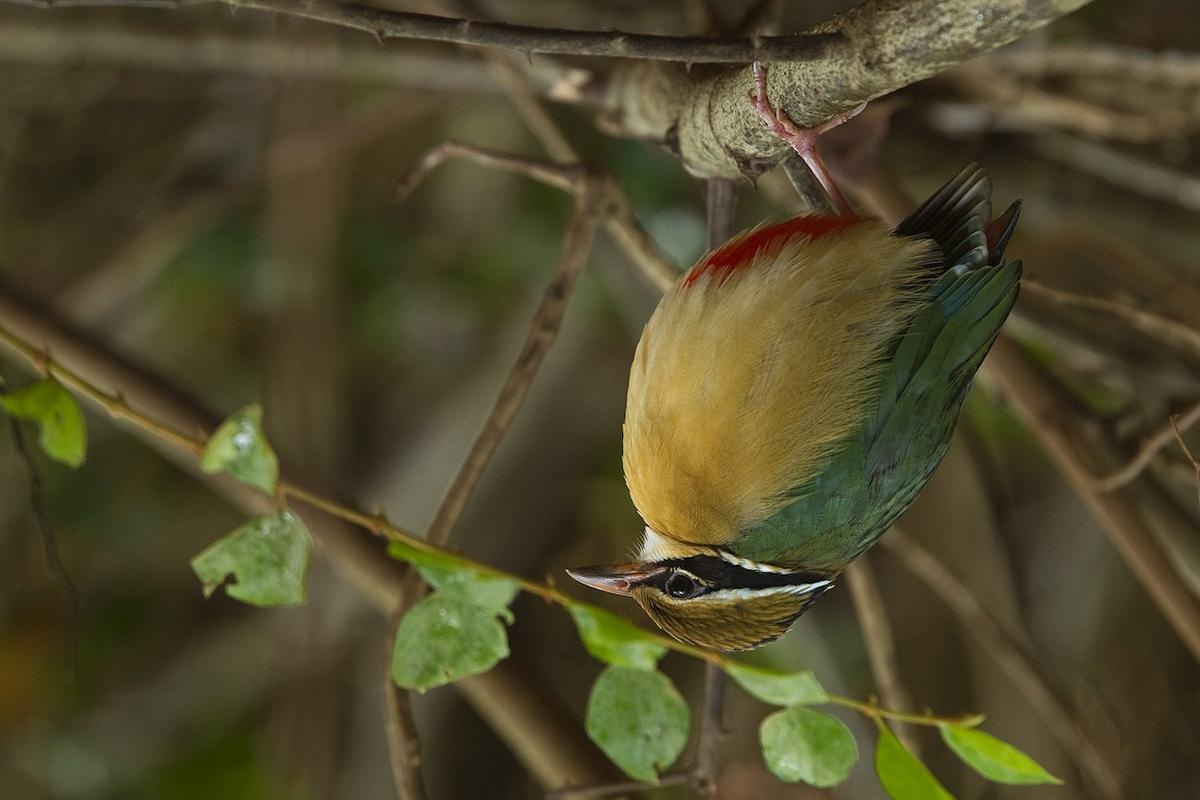pitta: (553, 153, 1071, 657)
